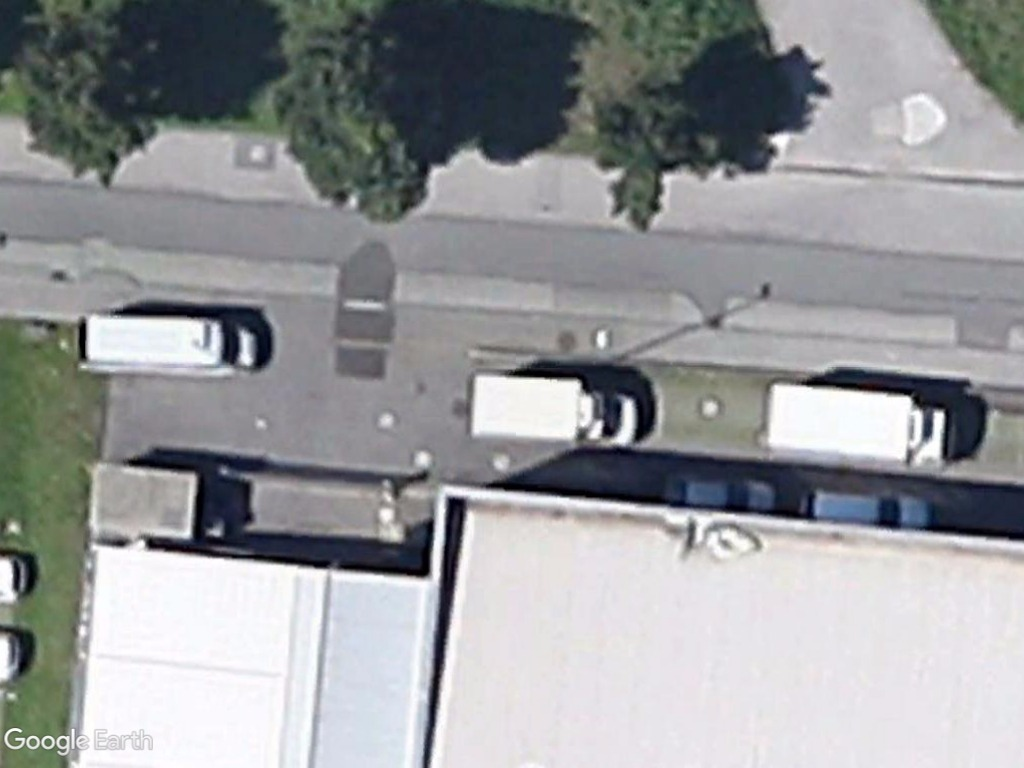truck: (753, 381, 963, 470), (460, 363, 645, 454)
van: (67, 313, 266, 386)
